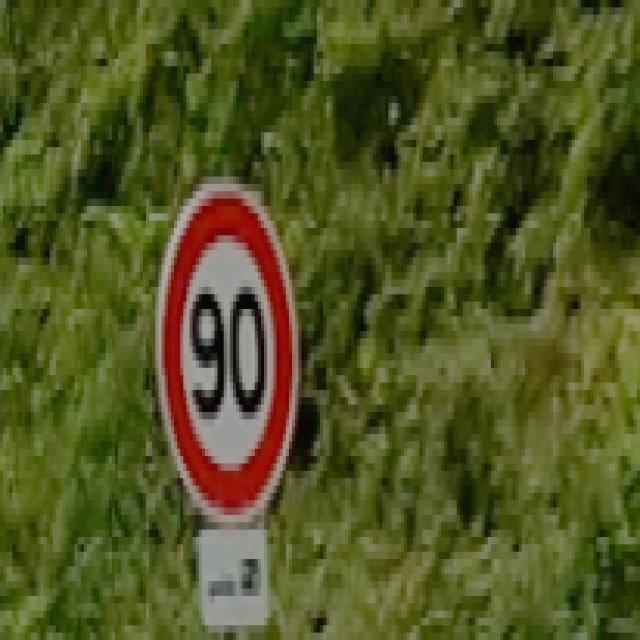speed_90: (154, 174, 300, 532)
